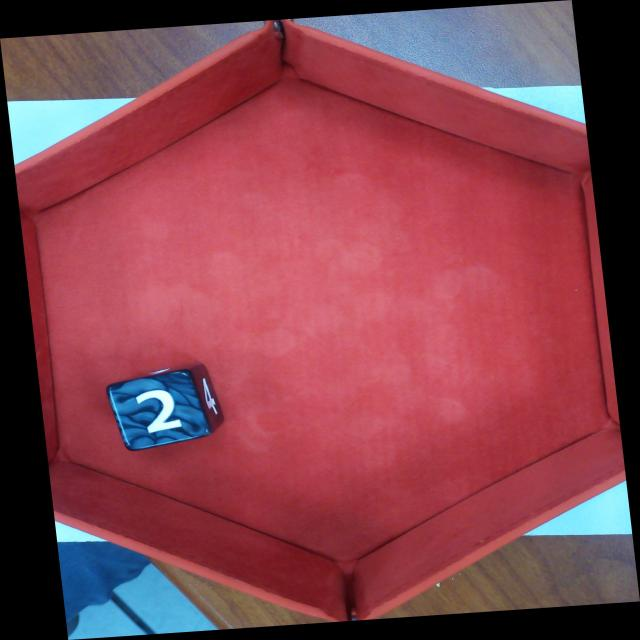dice: (110, 371, 212, 449)
